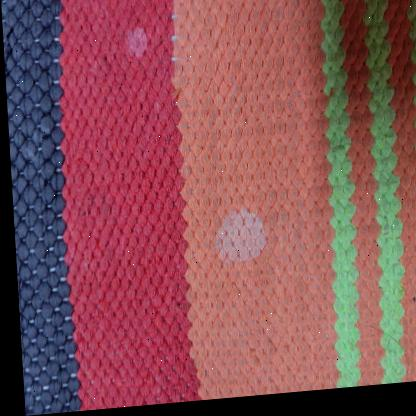spot: (206, 198, 272, 291), (119, 17, 161, 71), (16, 91, 22, 94)
